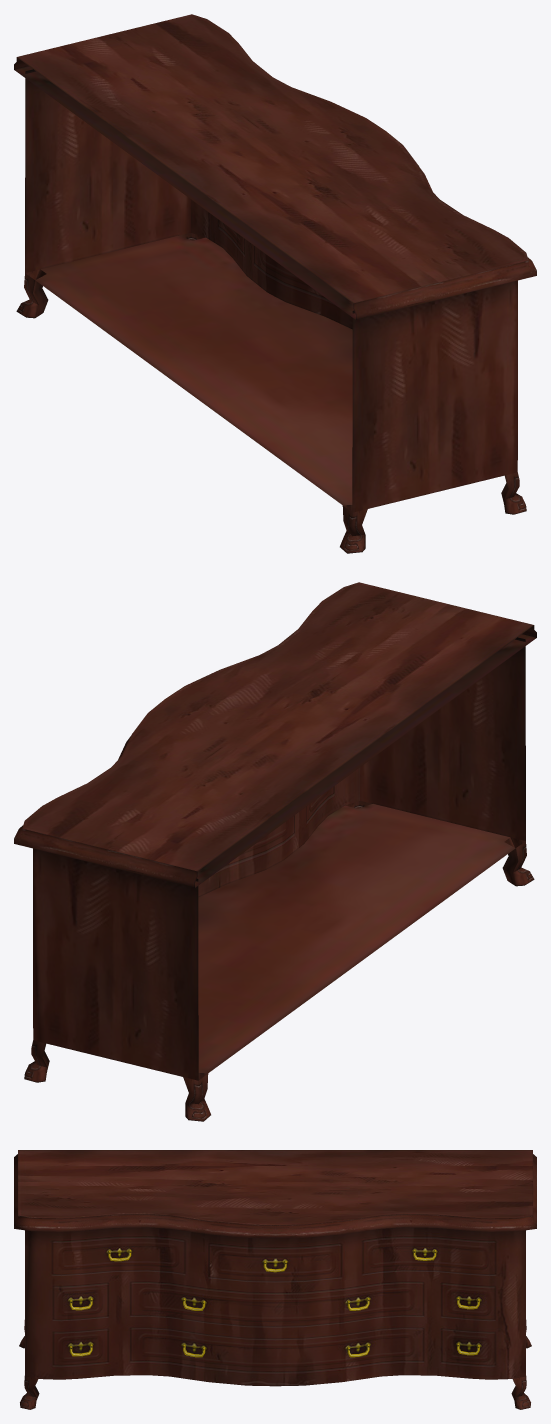
File: buffet.fbx
3 renders of one model, top to bottom at view 1: azimuth 30°, elevation 25°; view 2: azimuth 150°, elevation 25°; view 3: azimuth 270°, elevation 25°, orthographic. The views are drawn at different scales.
Visible parts, largest first — view 1: polySurface1652; view 2: polySurface1652; view 3: polySurface1652.
Part boxes in pixels (x1,y1,x2,y2): polySurface1652: (14, 14, 536, 553); polySurface1652: (14, 582, 536, 1121); polySurface1652: (14, 1150, 536, 1409).
Bounding box in the file's own units: 89.39 × 102 × 252.
